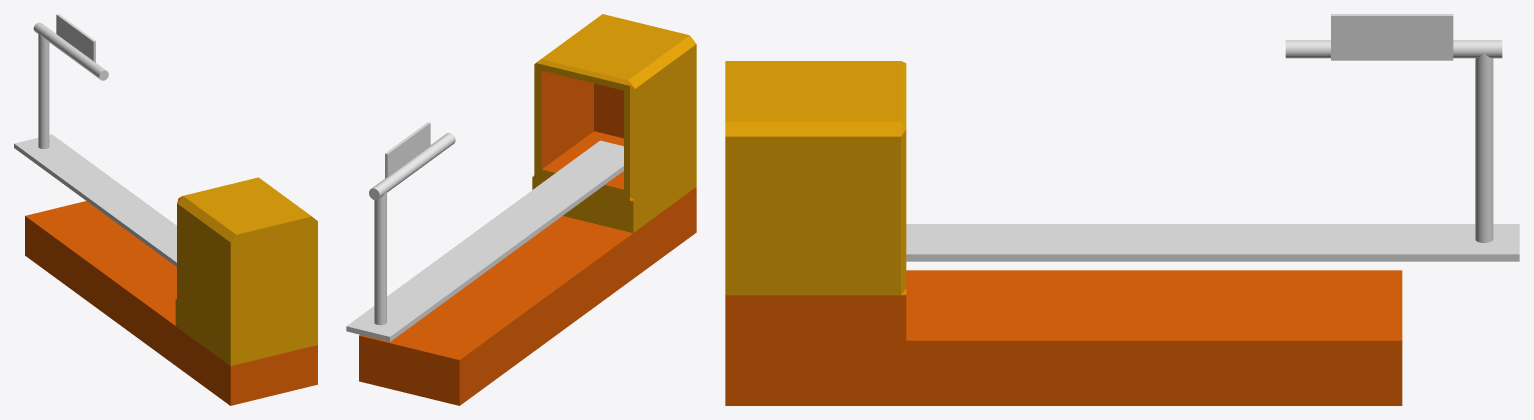
The model's file is Kale2 1.fbx.
3 renders of one model, left to right at view 1: azimuth 30°, elevation 25°; view 2: azimuth 150°, elevation 25°; view 3: azimuth 270°, elevation 25°, orthographic. The views are drawn at different scales.
Parts seen in each view (by area): view 1: Cube.002, Cube.001, Cylinder.002, Cube; view 2: Cube.002, Cube.001, Cylinder.002, Cube; view 3: Cube.002, Cube.001, Cube, Cylinder.002.
Part boxes in pixels (x1,y1,x2,y2): Cube.002: (25, 177, 317, 405); Cube.001: (14, 134, 176, 266); Cylinder.002: (33, 22, 108, 148); Cube: (56, 14, 95, 62); Cube.002: (359, 14, 696, 405); Cube.001: (346, 140, 623, 341); Cylinder.002: (369, 133, 455, 325); Cube: (385, 122, 430, 178); Cube.002: (725, 61, 1402, 405); Cube.001: (906, 224, 1519, 261); Cube: (1331, 14, 1453, 60); Cylinder.002: (1285, 40, 1502, 242).
Bounding box in the file's own units: 460 × 1098 × 2200.
